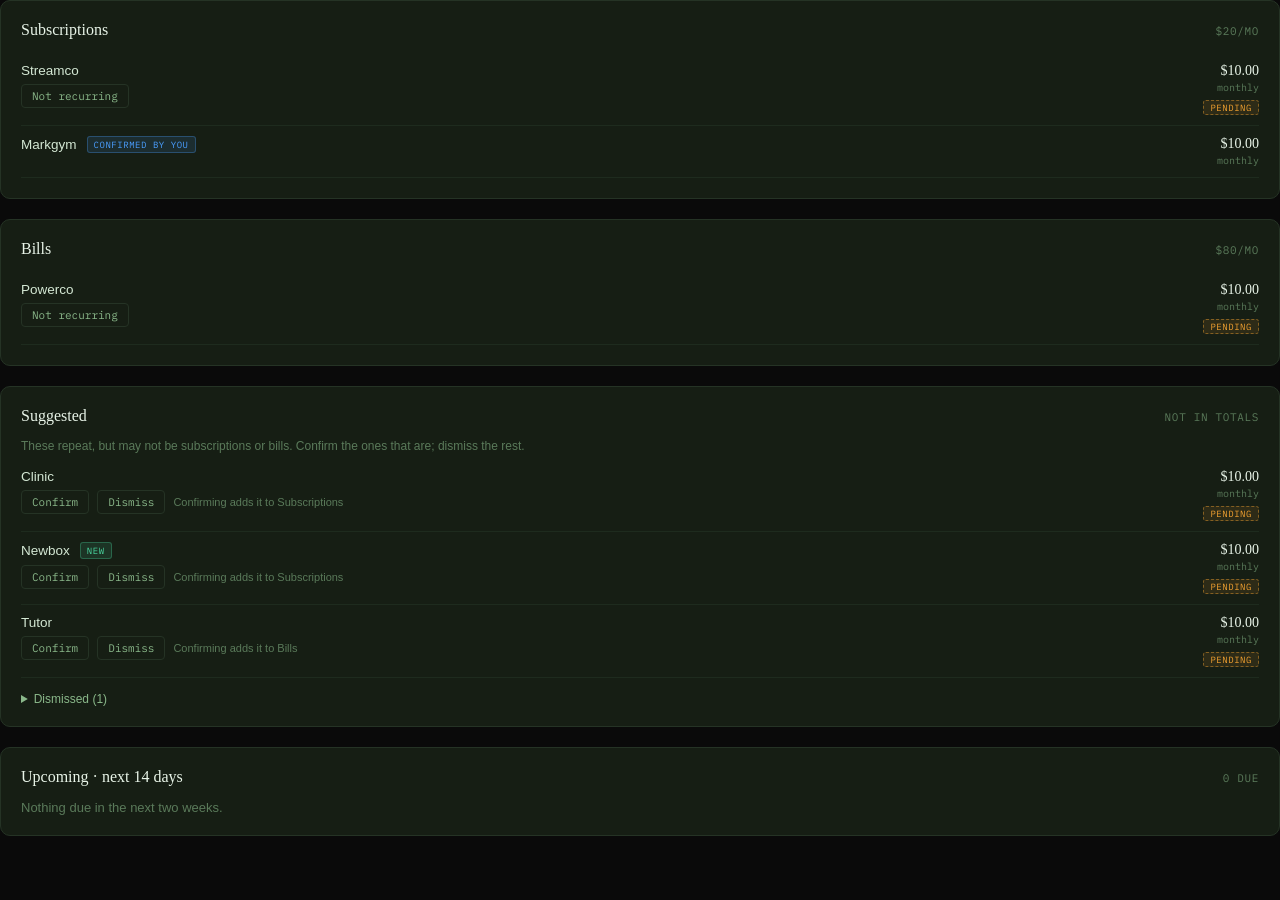
it: SubscriptionTracker › demo mode: the demo message, nothing moves, no Undo, and the tab isn't read again
Click the button "Dismiss" below "Clinic": x=131, y=502 [97, 490, 165, 514]
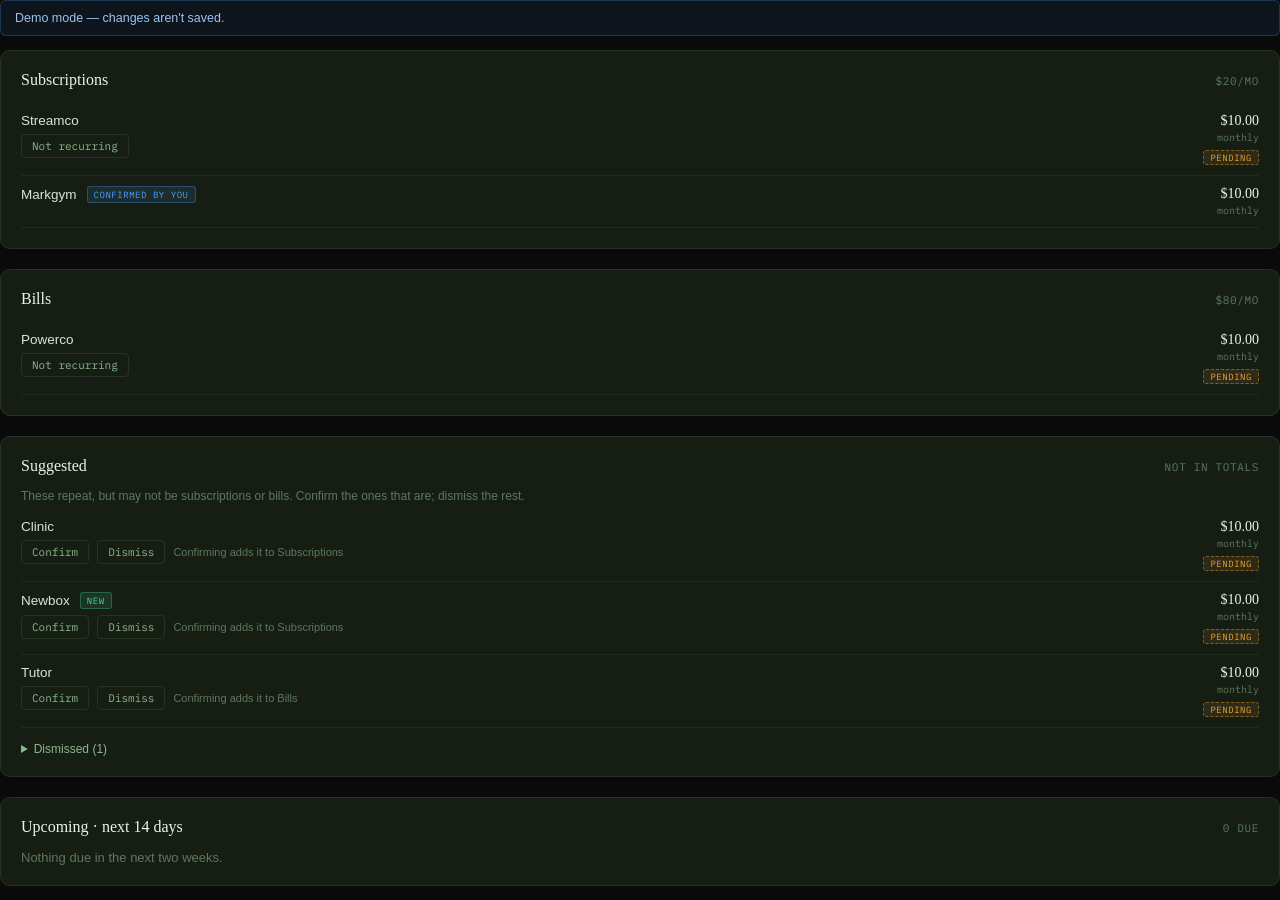
Result: the message "Demo mode — changes aren't saved." is shown at [0, 0, 1279, 36]
